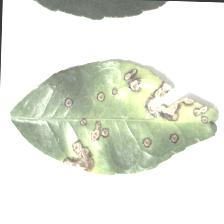canker: (52, 63, 216, 173)
